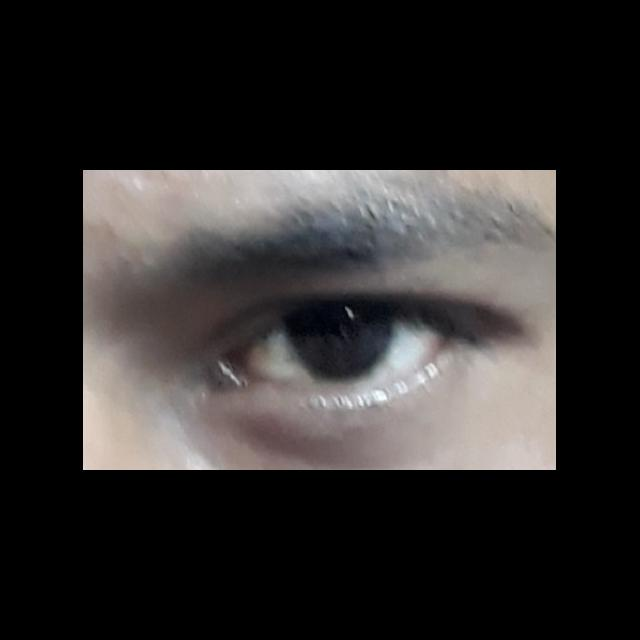eye: (242, 305, 449, 397)
iris: (282, 309, 397, 383)
